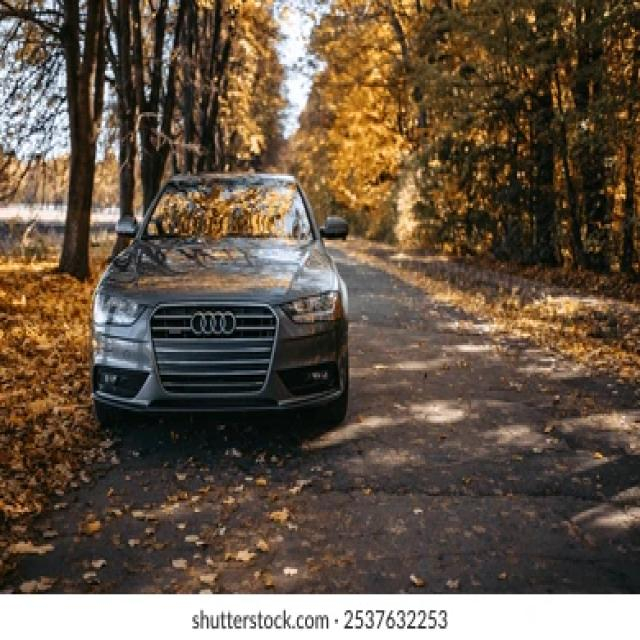audi: (189, 310, 240, 336)
